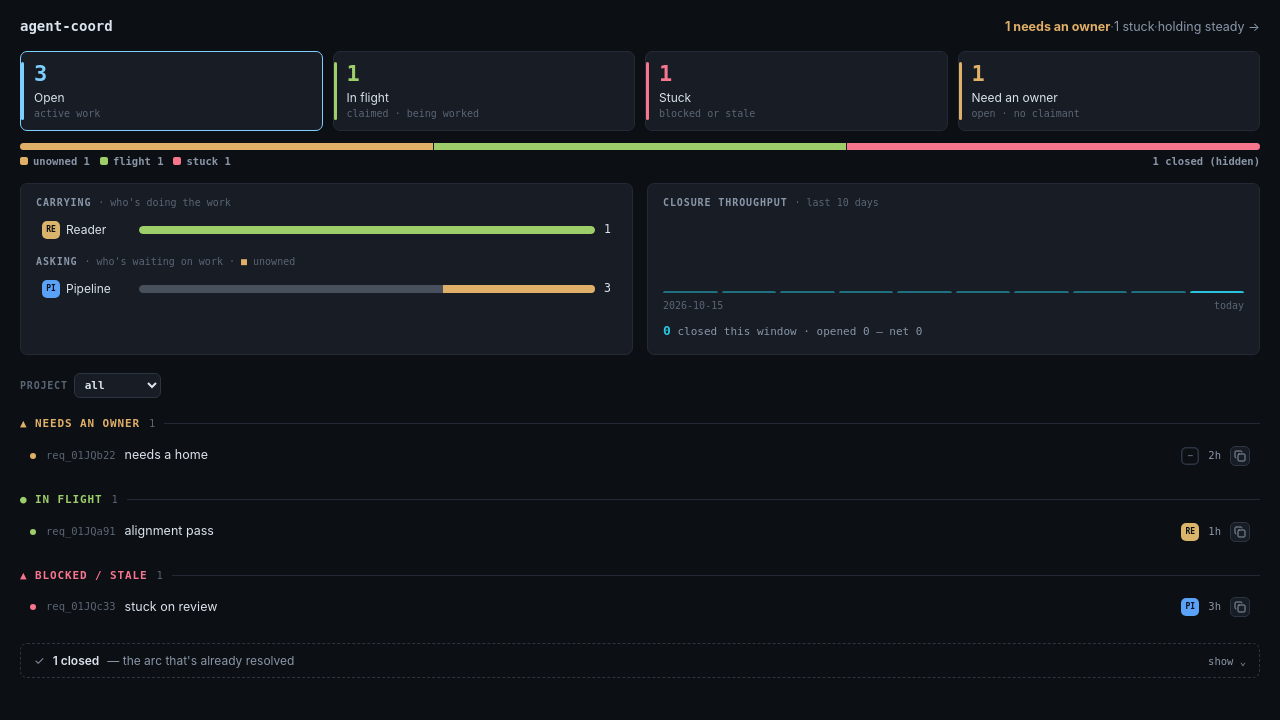
Test case: Board — stat click-to-filter › "clear all" clears the filter
What coordinates should you click on to do the following:
click the button with test id "board-stat-stuck"
I would click on:
 (675, 98)
Its box is [645, 51, 948, 131].
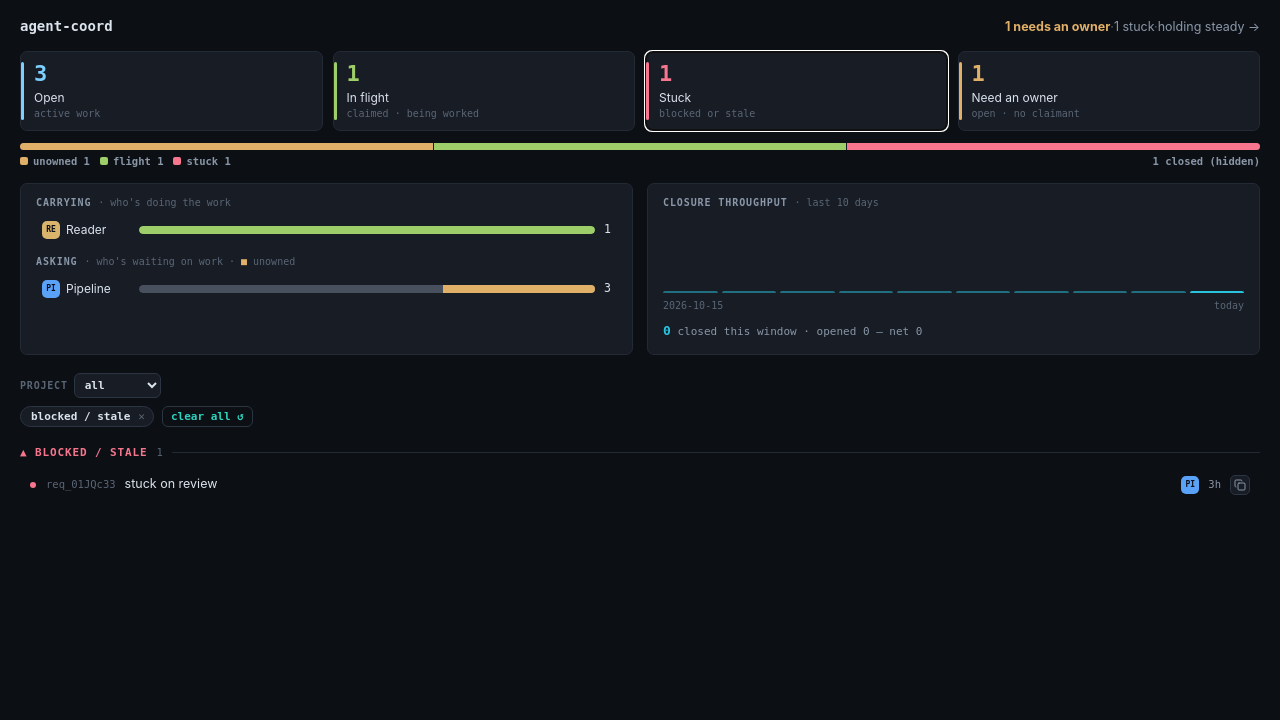
What coordinates should you click on to do the following:
click the button "clear all ↺"
I would click on:
 (207, 416)
Its box is [162, 406, 253, 427].
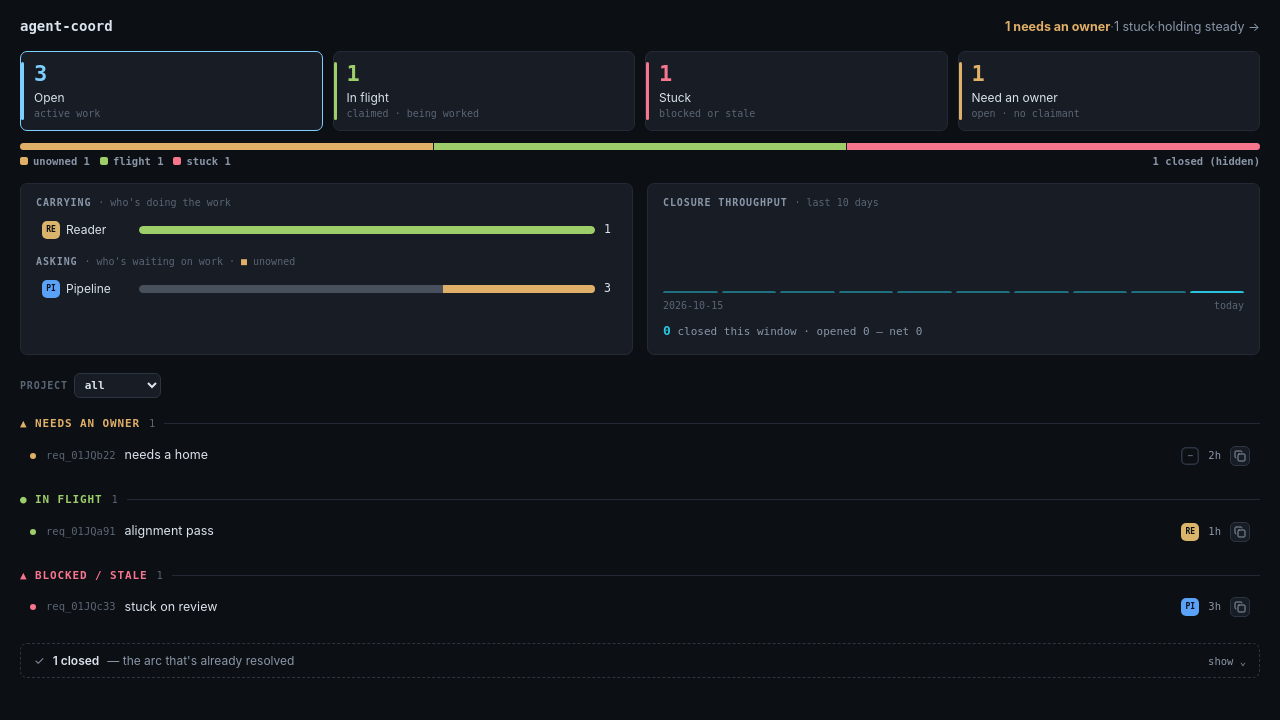
Expected: the text "needs a home" is shown, [124, 447, 208, 462]
Expected: the text "alignment pass" is shown, [124, 523, 214, 538]
Expected: the element with test id "board-filter-chips" is gone
